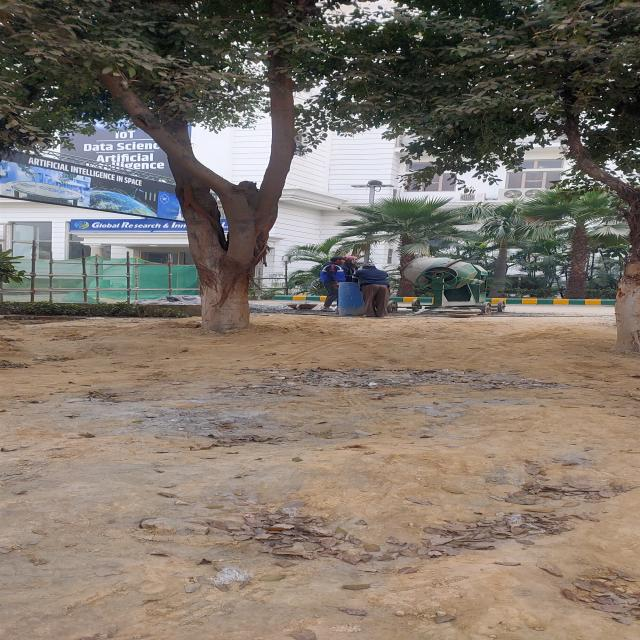unsafe: (353, 261, 389, 316), (320, 256, 348, 314)
